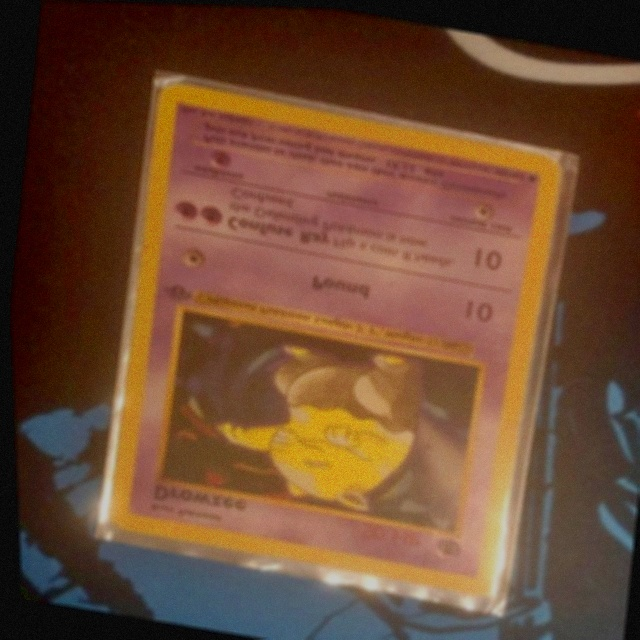card: (104, 81, 561, 592)
